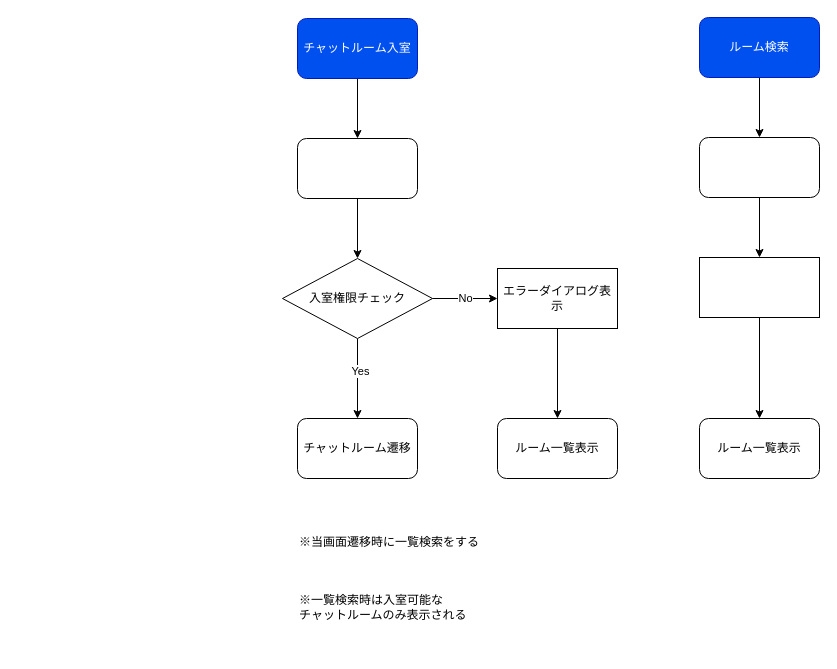
This 837x669 diagram has some shape labels left out. The shapes that lost their labels are listed below. From the top down, each one's centre as x and y in pixels, then its label:
At pixel 357 168: "チャットルームクリック".
At pixel 759 167: "ルーム検索実行".
At pixel 759 287: "入力内容をサーバー側で受信".
